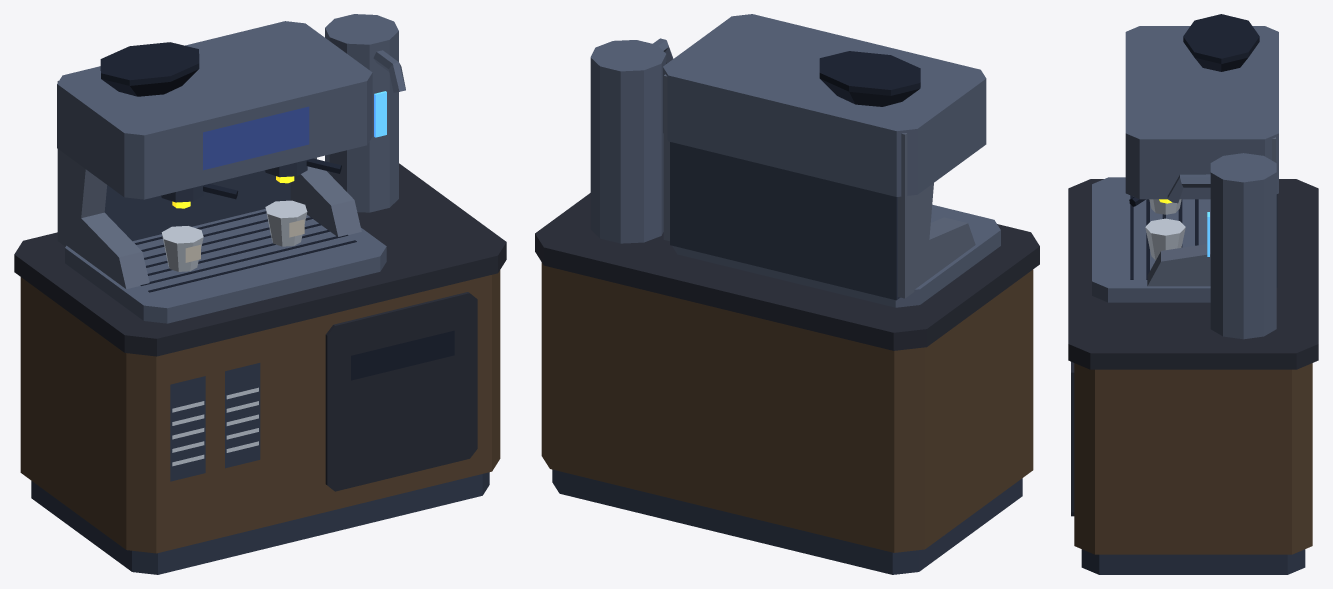
File: off_coffee_machine.glb
3 renders of one model, left to right at view 1: azimuth 30°, elevation 25°; view 2: azimuth 150°, elevation 25°; view 3: azimuth 270°, elevation 25°, orthographic. The views are drawn at different scales.
Parts seen in each view (by area): view 1: bar_cabinet, drip_tray, bin_hatch, boiler_back, bin_slot, machine_cheek, cup_lip, print; view 2: bar_cabinet, drip_tray, boiler_back, bin_hatch, machine_cheek, bin_slot; view 3: bar_cabinet, drip_tray, bin_hatch, boiler_back, bin_slot, machine_cheek, cup_lip.
Boxes of the visible parts, box(x1,y1,x2,y2) form: bar_cabinet: box(20, 270, 500, 553); drip_tray: box(57, 14, 405, 323); bin_hatch: box(14, 163, 506, 491); boiler_back: box(31, 160, 489, 574); bin_slot: box(100, 42, 454, 380); machine_cheek: box(57, 80, 361, 289); cup_lip: box(161, 200, 307, 466); print: box(203, 106, 309, 170); bar_cabinet: box(541, 262, 1033, 552); drip_tray: box(590, 14, 1000, 307); boiler_back: box(552, 142, 1022, 574); bin_hatch: box(535, 193, 1039, 350); machine_cheek: box(663, 74, 975, 298); bin_slot: box(819, 51, 920, 106); bar_cabinet: box(1074, 363, 1312, 554); drip_tray: box(1092, 26, 1278, 339); bin_hatch: box(1068, 179, 1318, 516); boiler_back: box(1081, 194, 1305, 574); bin_slot: box(1129, 14, 1259, 279); machine_cheek: box(1147, 137, 1275, 286); cup_lip: box(1145, 199, 1185, 260).
Bounding box in the file's own units: 1.4 × 1.55 × 0.85.
